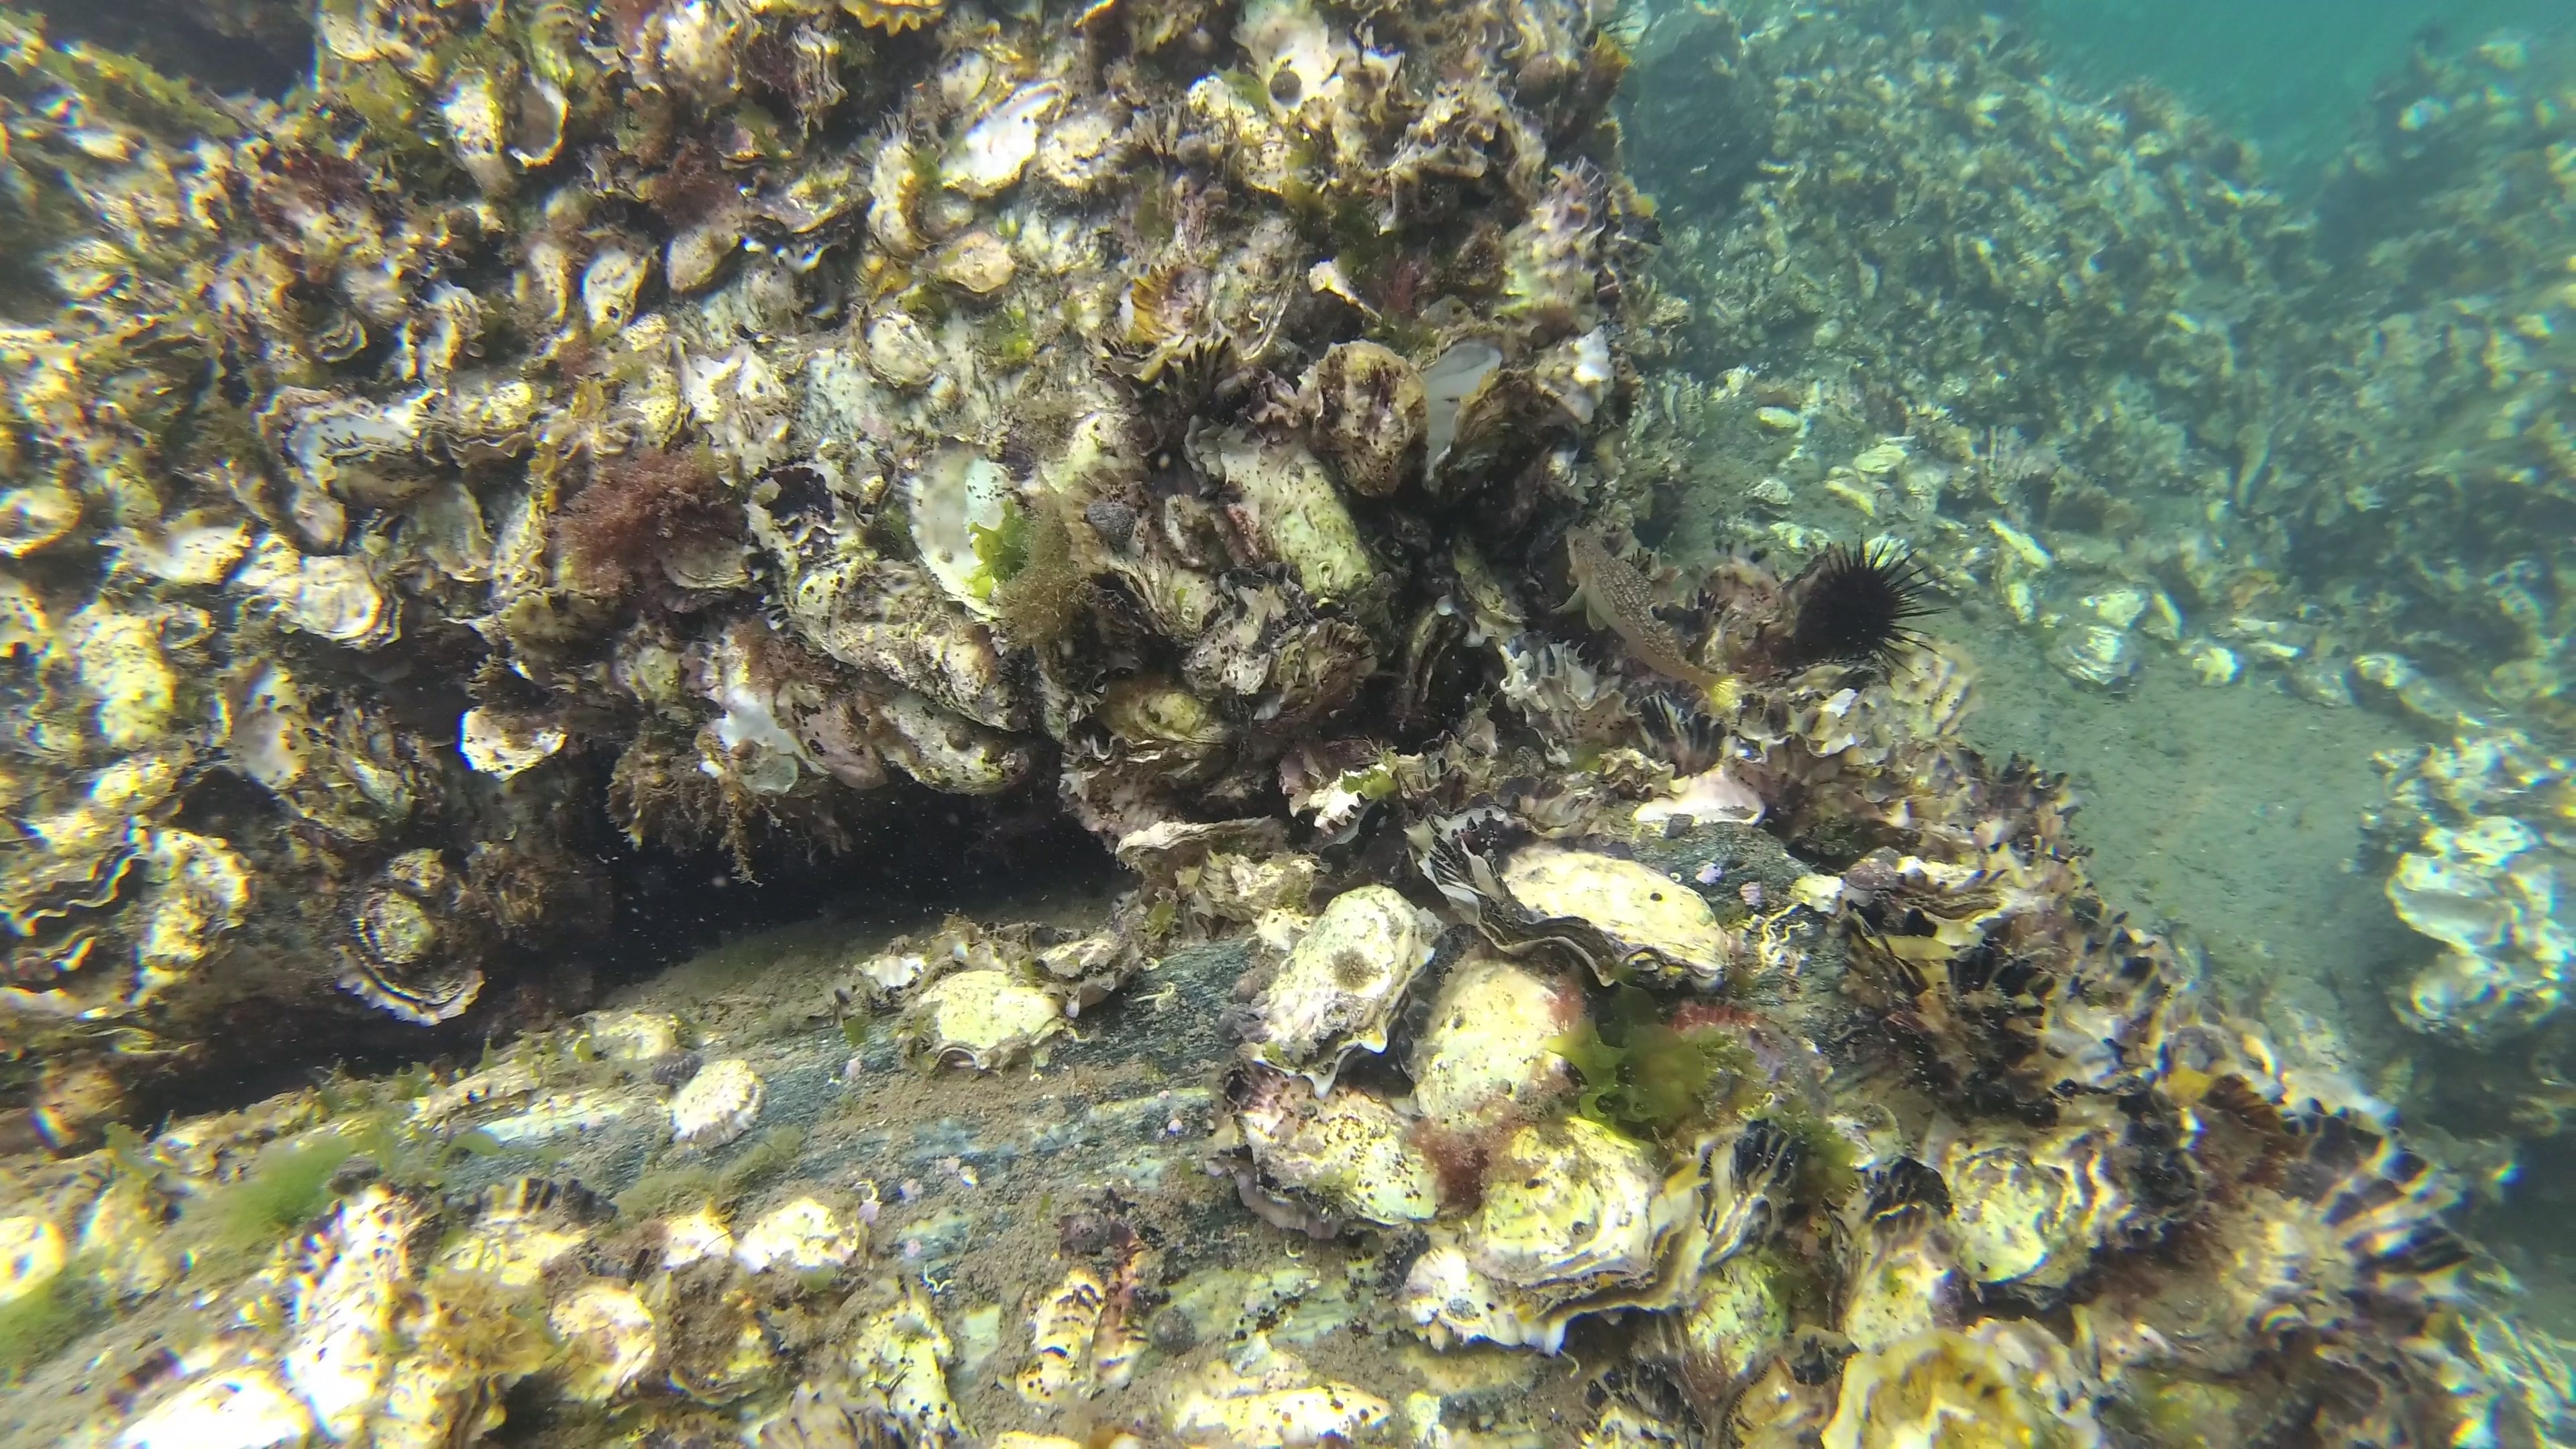echinus: (1790, 522, 1955, 681)
